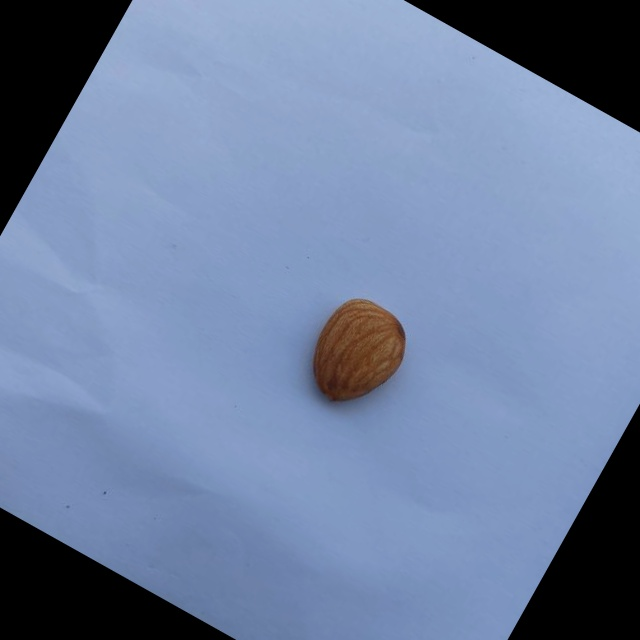grade1: (281, 276, 429, 432)
